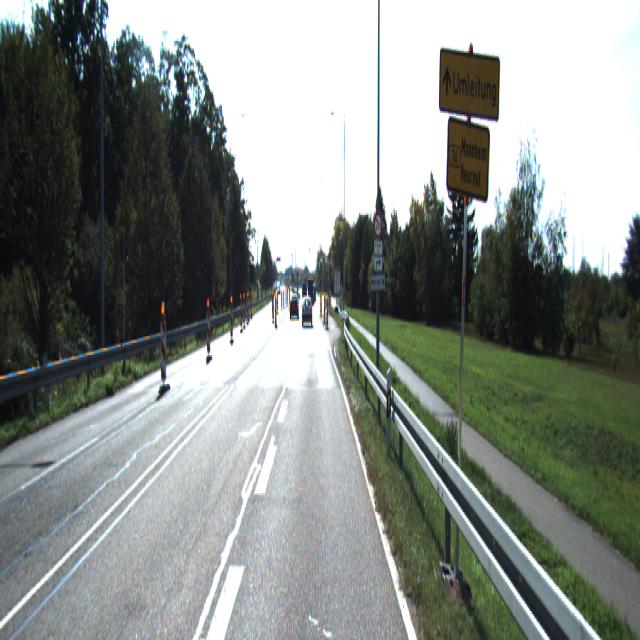Car: (302, 298, 313, 325), (289, 294, 299, 320)
